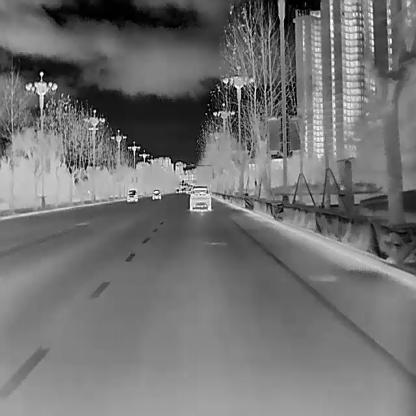car: (189, 184, 211, 209), (126, 188, 137, 202), (152, 189, 160, 200)
